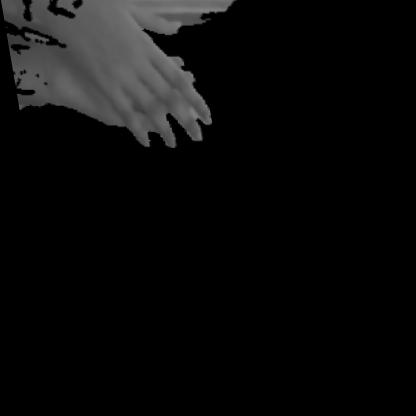clap: (15, 1, 226, 158)
